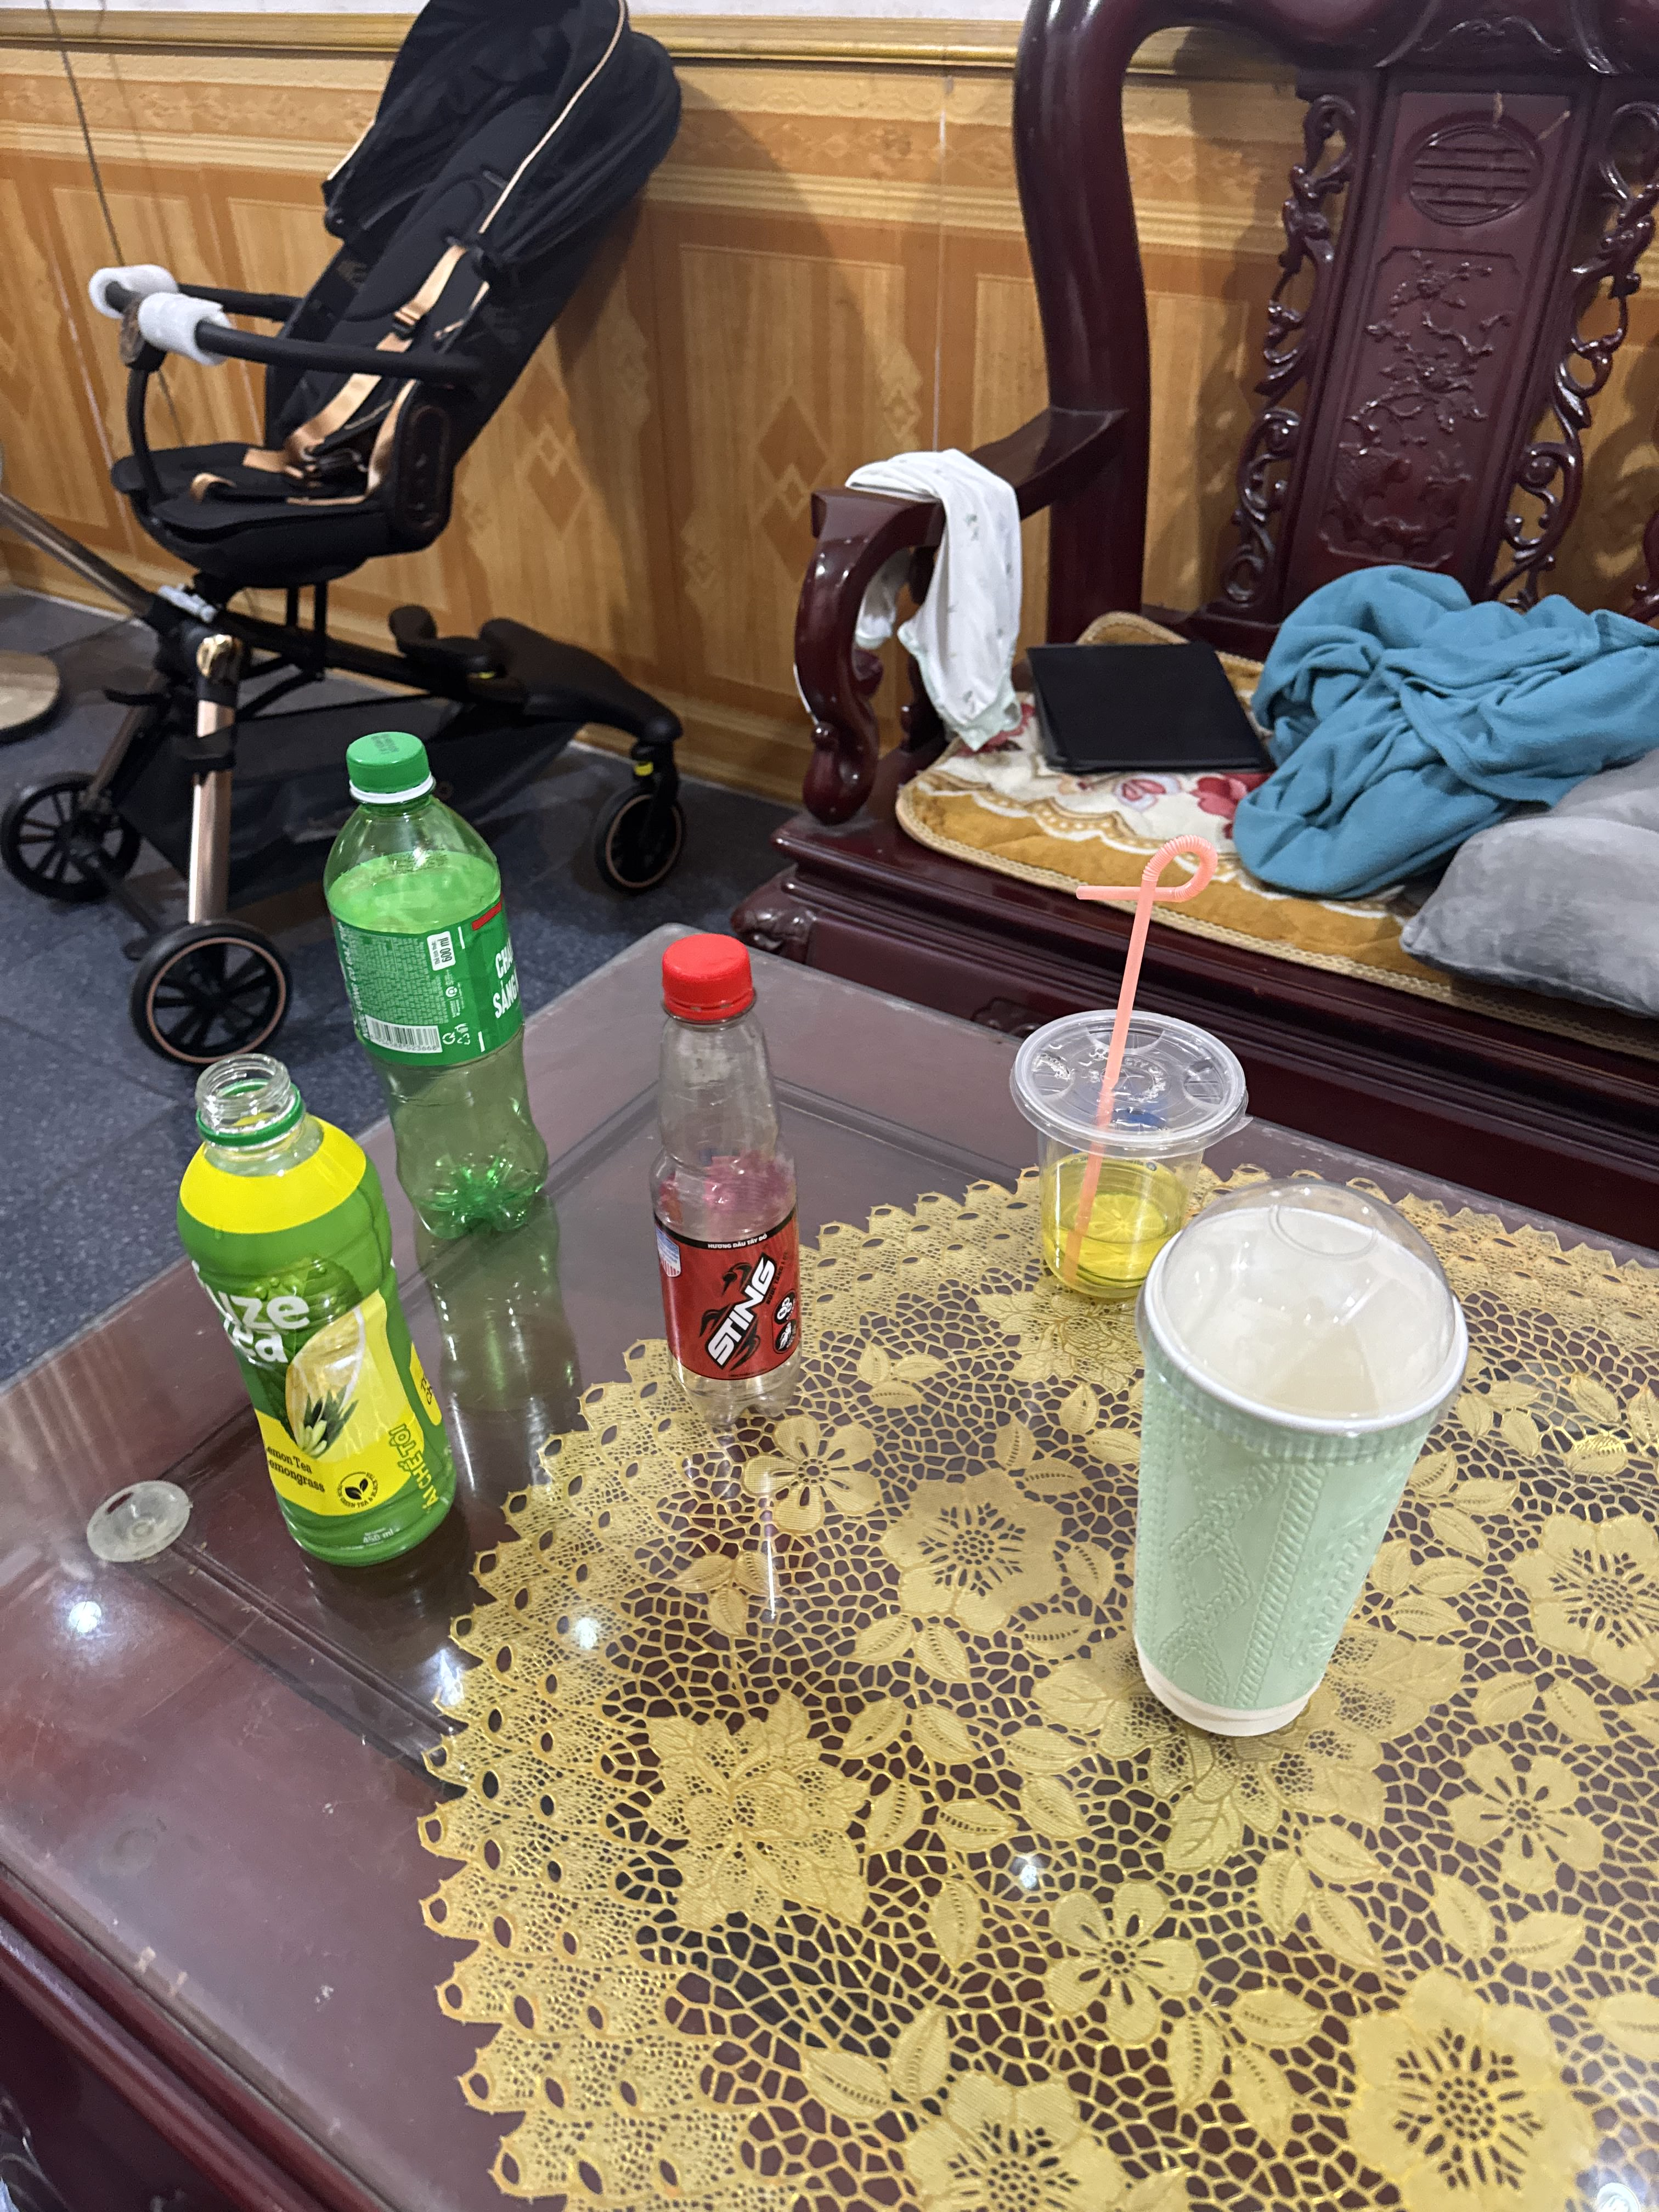2: (1079, 1165, 1507, 1770), (986, 1003, 1249, 1329)
bottle: (155, 1043, 498, 1575), (312, 704, 565, 1258), (599, 914, 831, 1463)
